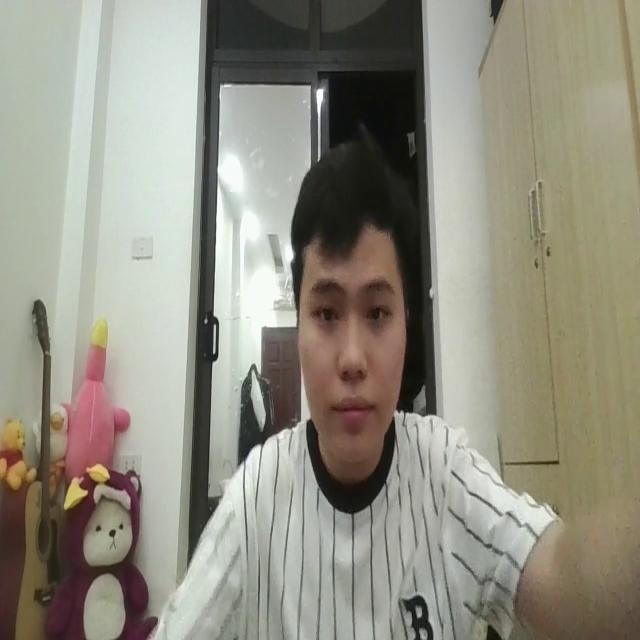student: (140, 128, 618, 640)
